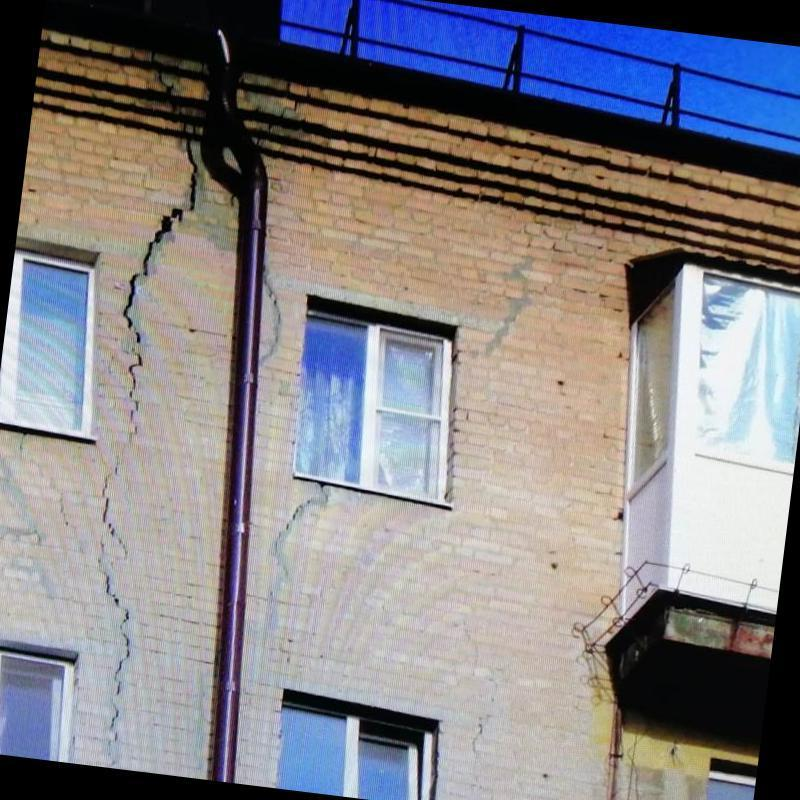crack: (143, 207, 183, 275), (260, 272, 282, 364), (276, 496, 314, 546), (113, 632, 132, 696), (123, 272, 140, 329), (187, 137, 198, 209), (103, 570, 122, 608), (128, 351, 143, 397), (279, 99, 299, 120), (158, 69, 173, 95), (102, 476, 110, 524), (110, 707, 120, 742), (119, 605, 132, 630), (317, 482, 330, 504), (130, 398, 140, 421), (107, 522, 117, 536), (284, 80, 292, 94), (150, 50, 156, 63), (136, 331, 142, 344), (269, 121, 274, 133), (113, 466, 119, 476), (182, 121, 186, 134), (193, 123, 197, 135), (256, 137, 260, 148)
